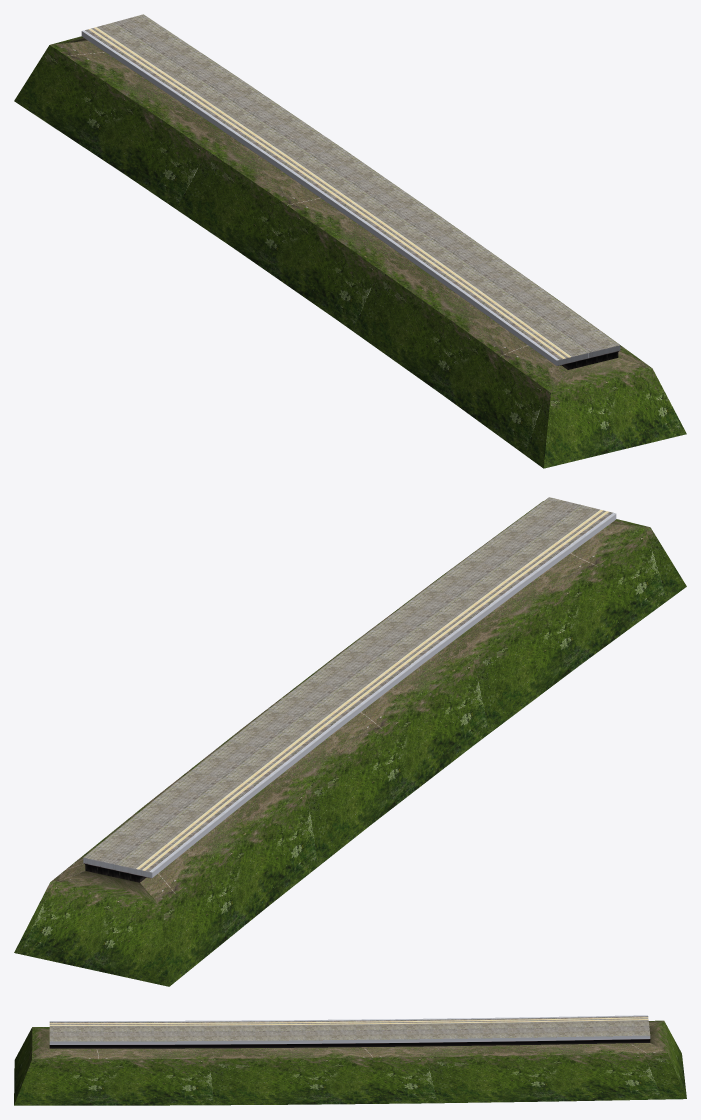
The model's file is platform_rus_1r50.gltf.
3 renders of one model, top to bottom at view 1: azimuth 30°, elevation 25°; view 2: azimuth 150°, elevation 25°; view 3: azimuth 270°, elevation 25°, orthographic. The views are drawn at different scales.
Size of the model in its own units: 10.32 by 4.75 by 56.1.
Materials: 1 (1 with a texture image).
